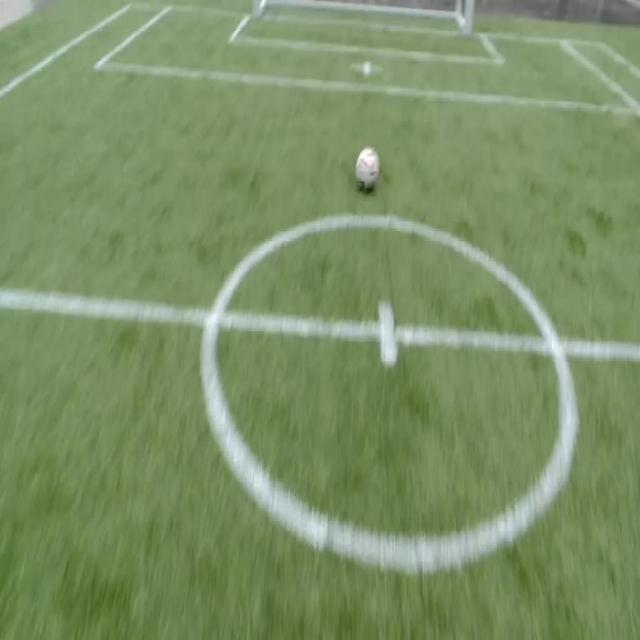ball: (356, 148, 380, 188)
goalpost: (462, 10, 474, 38), (252, 0, 262, 19)
